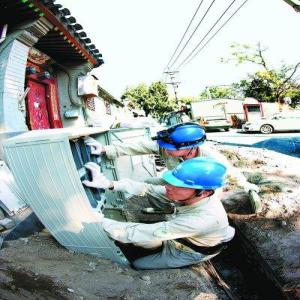blue: (161, 159, 228, 206), (152, 122, 208, 161)
